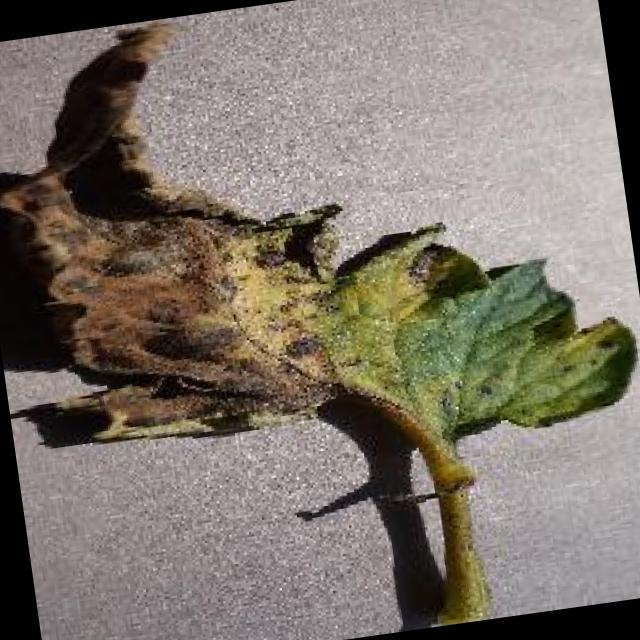Tomato_Early_Blight: (0, 0, 640, 504)
